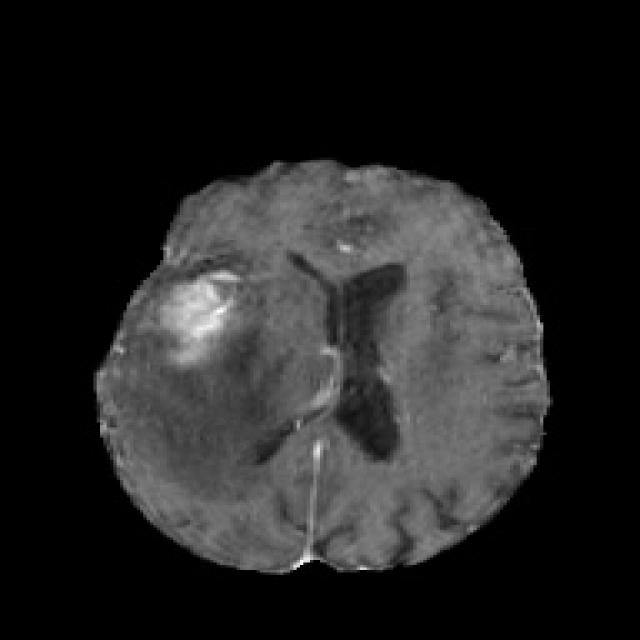positive: (164, 270, 244, 348)
